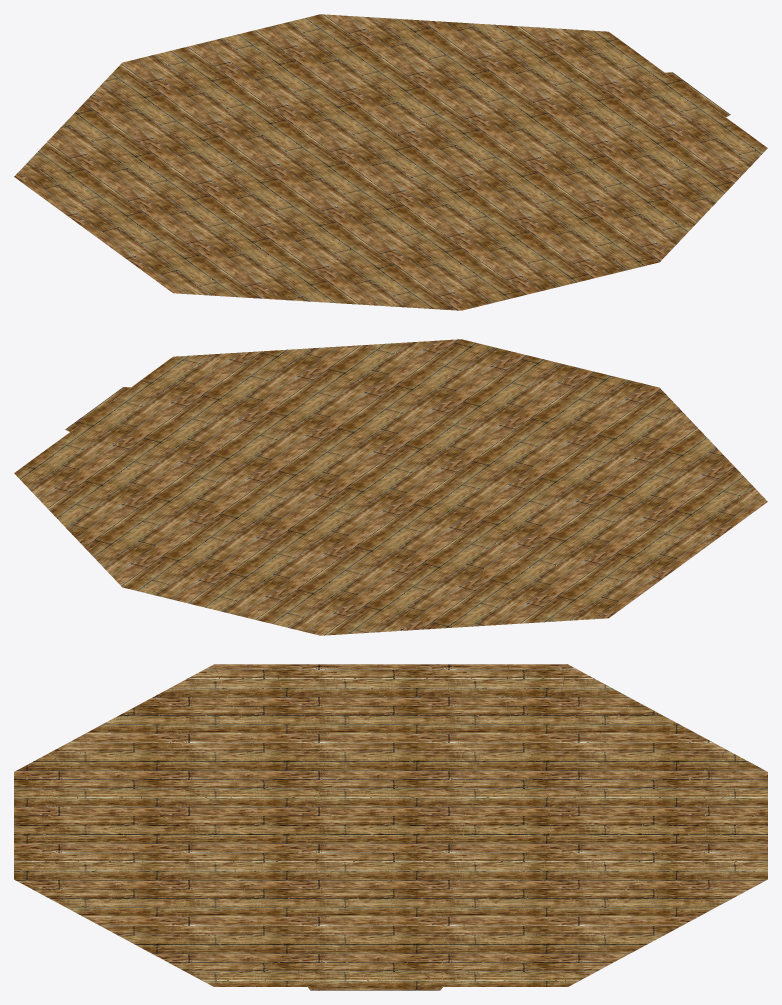
Rendered from LAKETOWN_WAREHOUSE2_PS_WH2_PRESSUREFLOOR3938.fbx.
3 views of the same model, one above another, from view 1: azimuth 30°, elevation 25°; view 2: azimuth 150°, elevation 25°; view 3: azimuth 270°, elevation 25° (orthographic). The views are drawn at different scales.
Visible parts, largest first — view 1: LAKETOWN_WAREHOUSE2_PS_WH2_PRESSUREFLOOR3938; view 2: LAKETOWN_WAREHOUSE2_PS_WH2_PRESSUREFLOOR3938; view 3: LAKETOWN_WAREHOUSE2_PS_WH2_PRESSUREFLOOR3938.
Part boxes in pixels (box(x1,y1,x2,y2)): LAKETOWN_WAREHOUSE2_PS_WH2_PRESSUREFLOOR3938: box(14, 14, 767, 310); LAKETOWN_WAREHOUSE2_PS_WH2_PRESSUREFLOOR3938: box(14, 339, 767, 635); LAKETOWN_WAREHOUSE2_PS_WH2_PRESSUREFLOOR3938: box(14, 664, 767, 990).
Size of the model in its own units: 178245 by 0.0893 by 174112.
Materials: 1 (1 with a texture image).
